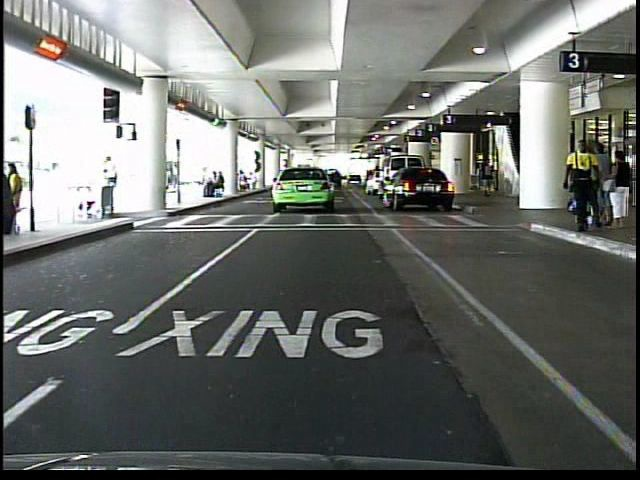person: (556, 139, 599, 238), (588, 145, 613, 233), (98, 155, 131, 221), (605, 144, 627, 236), (477, 155, 499, 205)
